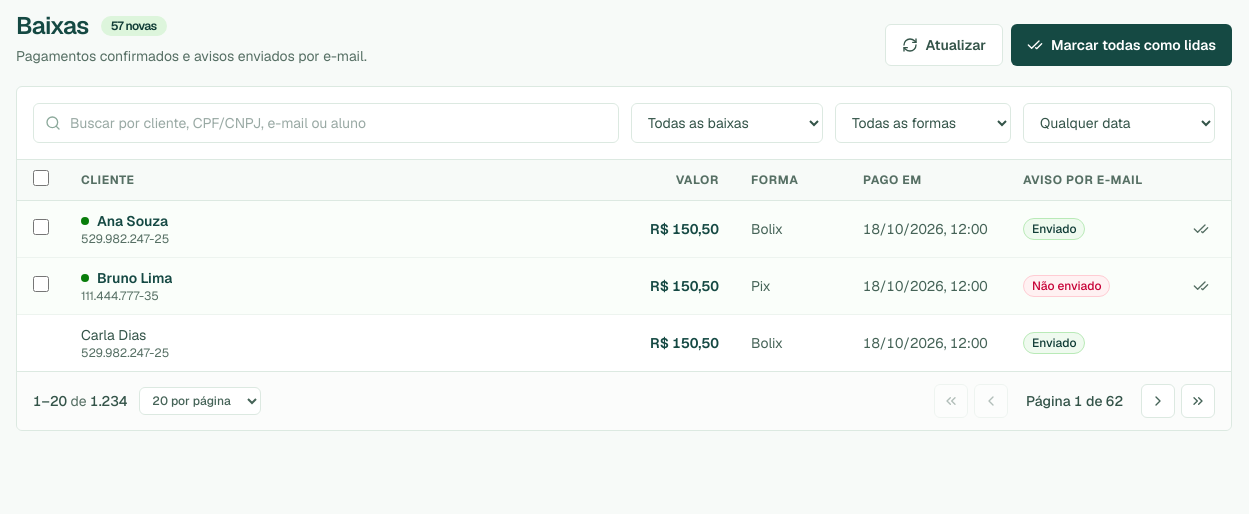
Test: BaixasPage › marks the selected baixas as read and keeps them in place
Expected: the table is shown, left=17, top=160, right=1231, bottom=371
Click the checkbox named "Selecionar as não lidas desta página" at (41, 178), box left=33, top=170, right=49, bottom=186
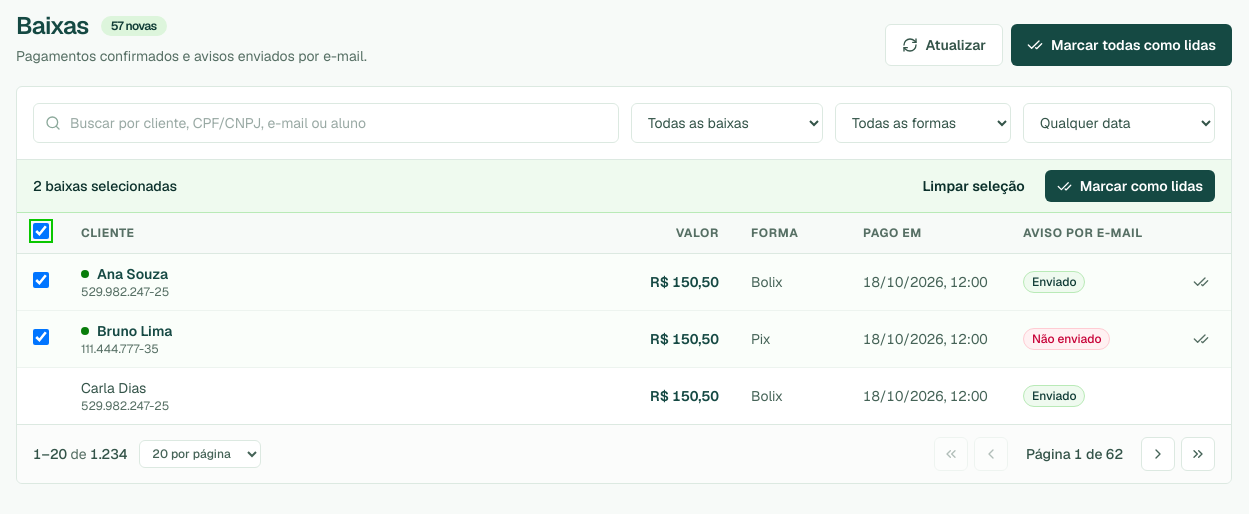
Now the text "2 baixas selecionadas" is shown, box left=33, top=176, right=177, bottom=196
Click the button "Marcar como lidas" at (1130, 186), box left=1045, top=170, right=1215, bottom=202
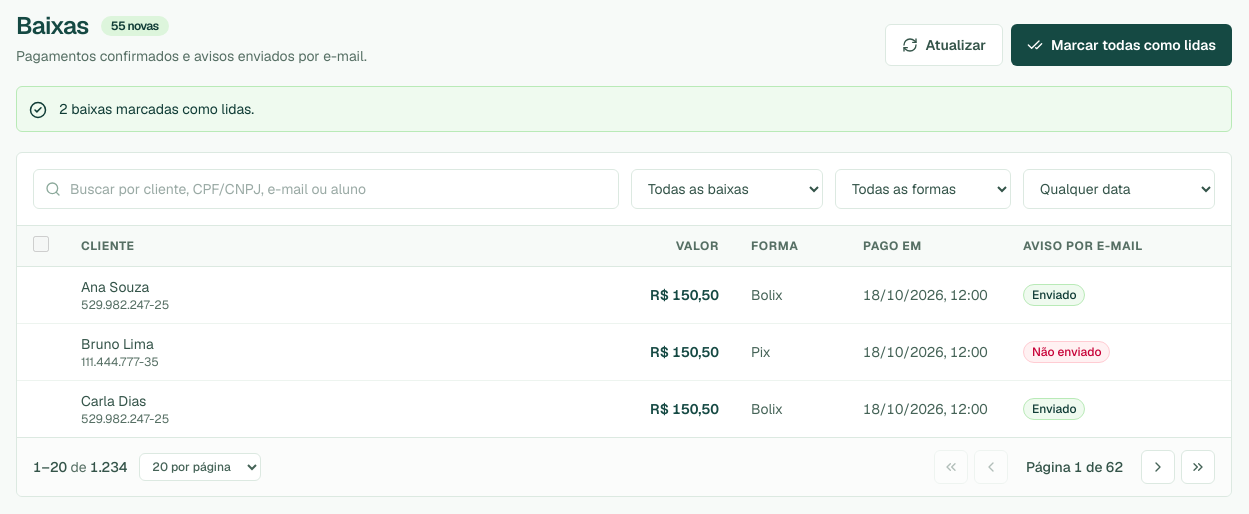
Now the text "2 baixas marcadas como lidas." is shown, box left=59, top=99, right=254, bottom=119
Now the text "55 novas" is shown, box left=101, top=16, right=169, bottom=36
